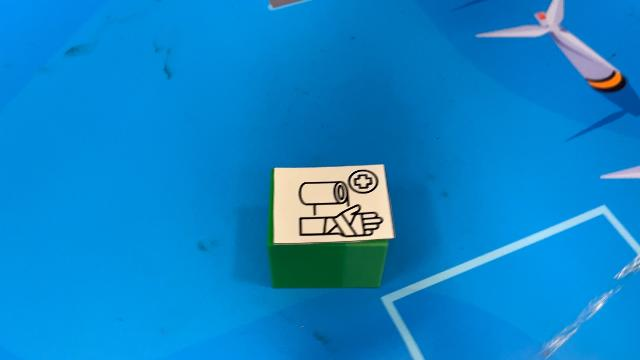bandage: (267, 162, 397, 288)
